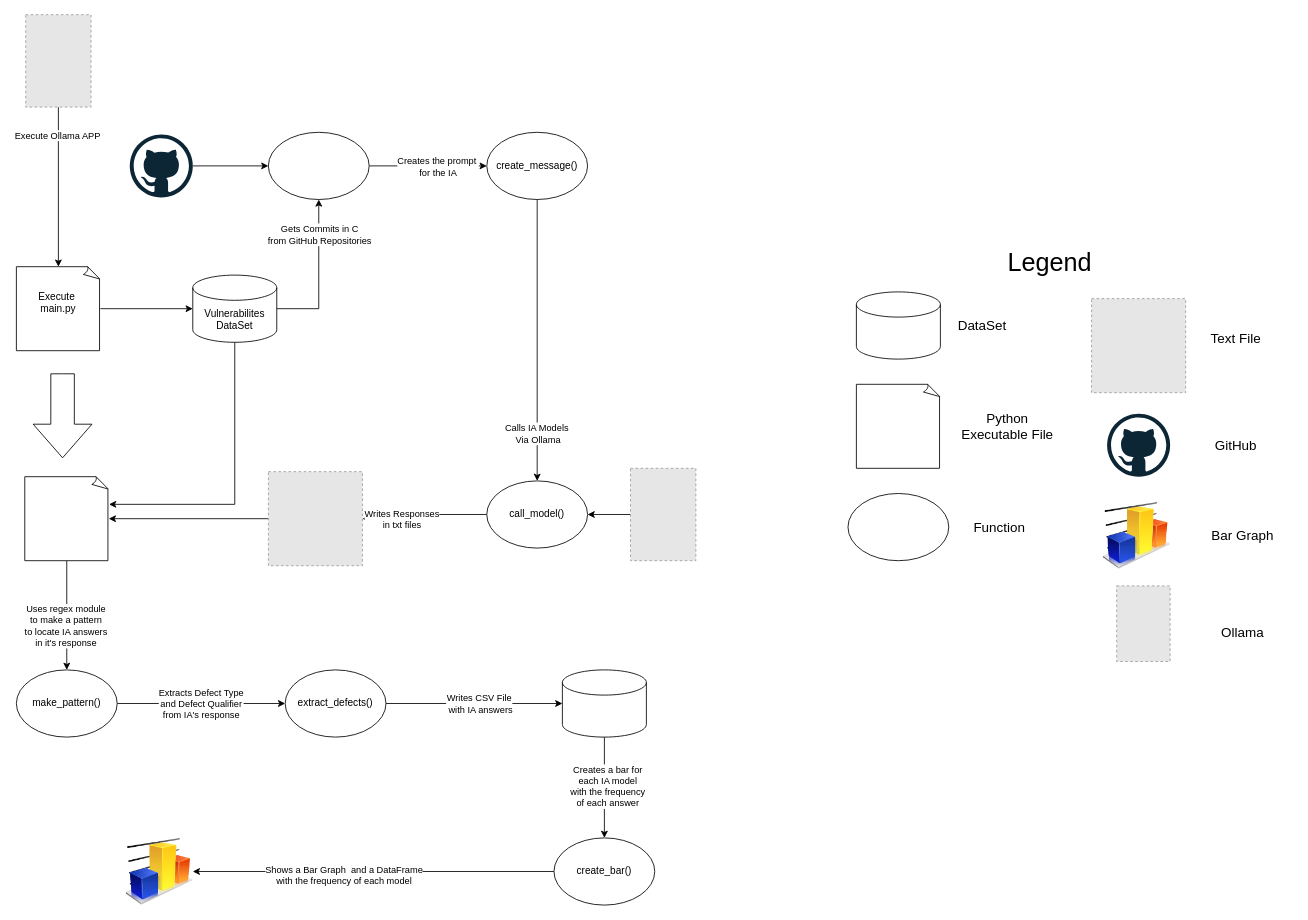
Image size: 1308x920. Some labels were removed from this diagram. Grey dashed boxes stand in for pictures. The box of each missing label's shape, as (x1, y1, x2, y2) in pixels:
Execute data_analyser.py: (24, 476, 109, 561)
get_commit(): (268, 131, 369, 200)
o utput.csv: (562, 669, 646, 737)
